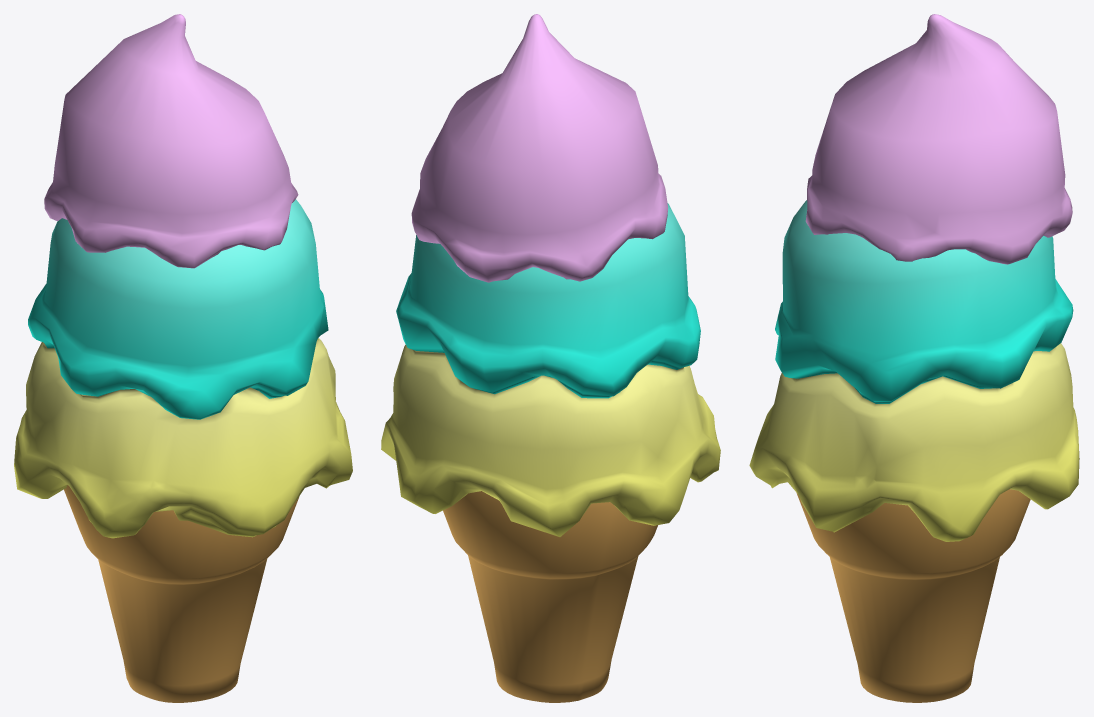
File: IceCream_0001_0007.fbx
The picture shows the model from 3 angles, left to right: view 1: azimuth 30°, elevation 25°; view 2: azimuth 150°, elevation 25°; view 3: azimuth 270°, elevation 25°; orthographic projection. The views are drawn at different scales.
Visible parts, largest first — view 1: Ice_0001_0007; view 2: Ice_0001_0007; view 3: Ice_0001_0007.
Boxes of the visible parts, box(x1,y1,x2,y2) form: Ice_0001_0007: box(14, 14, 352, 702); Ice_0001_0007: box(381, 14, 720, 702); Ice_0001_0007: box(749, 14, 1079, 702).
Bounding box in the file's own units: 0.0994 × 0.2169 × 0.0969.
1 material, 1 textured.
